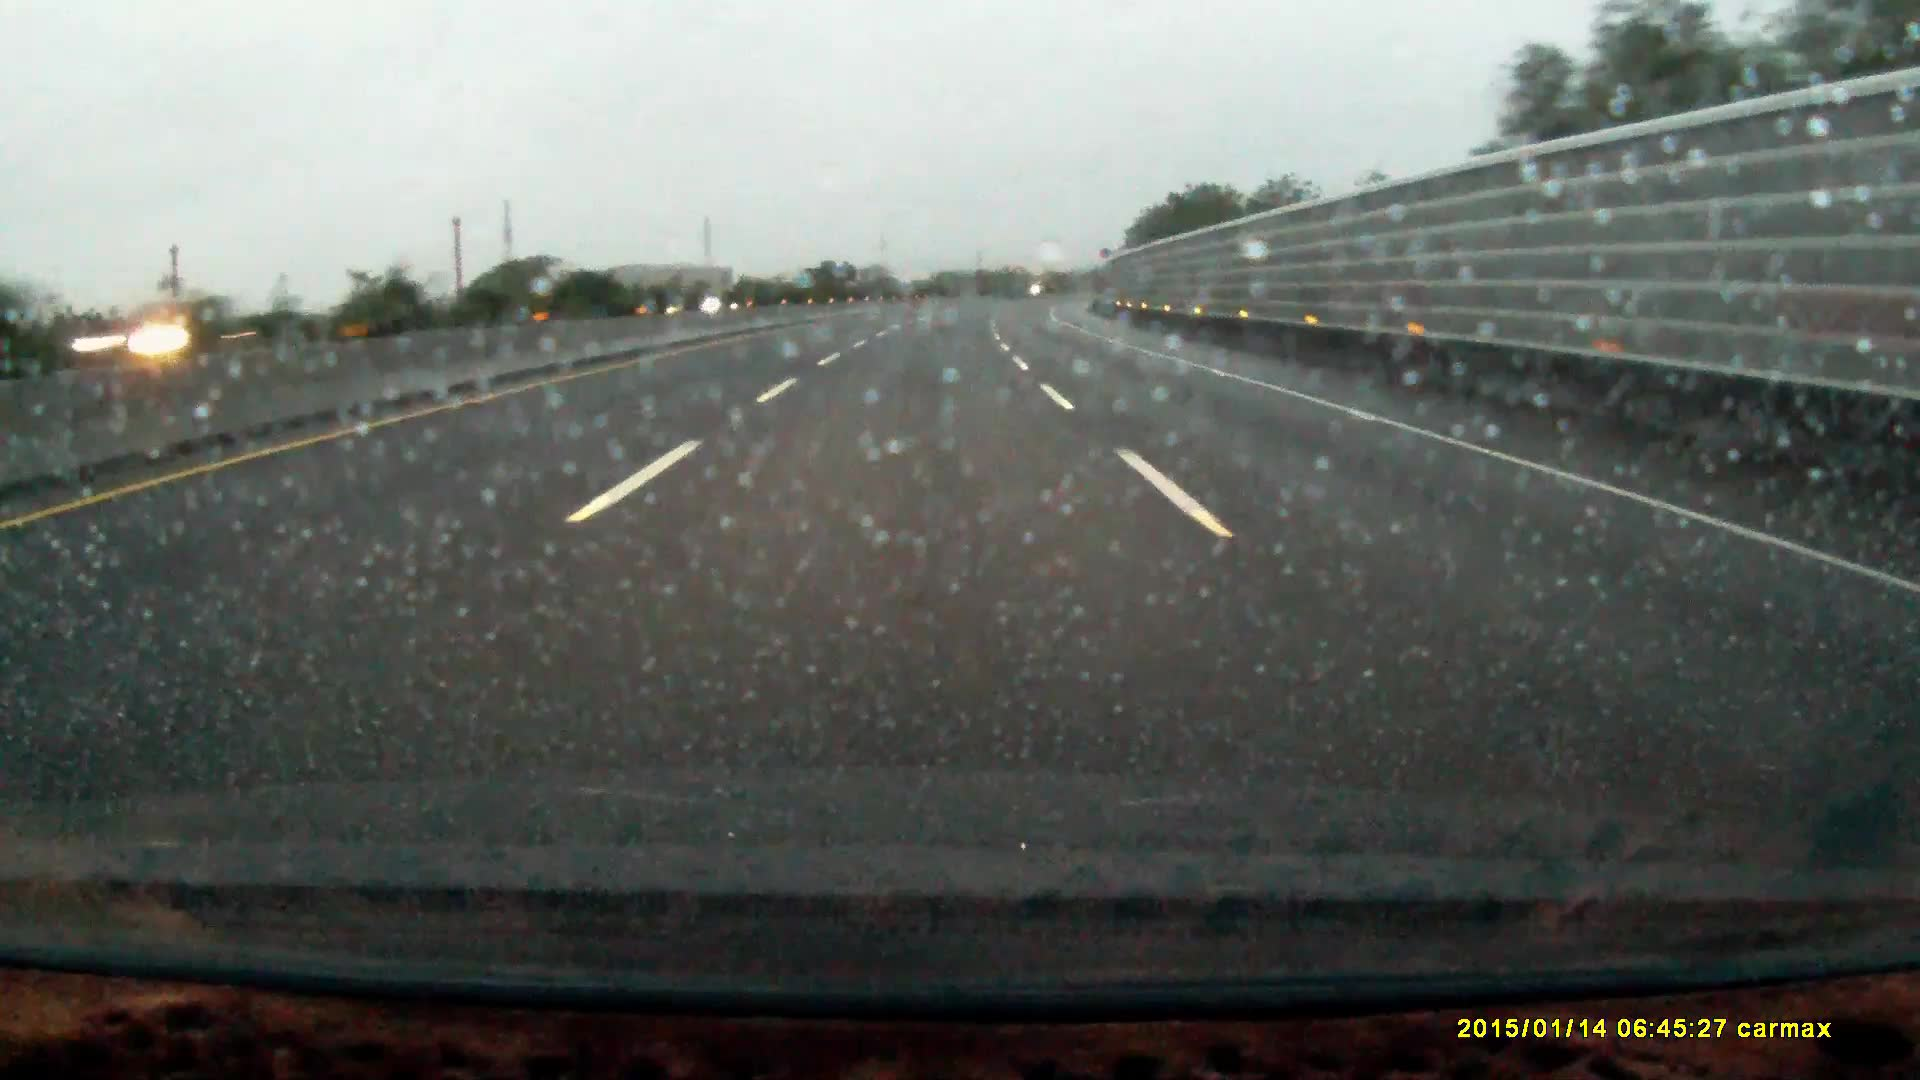vehicle: (79, 303, 222, 363), (682, 287, 735, 311)
